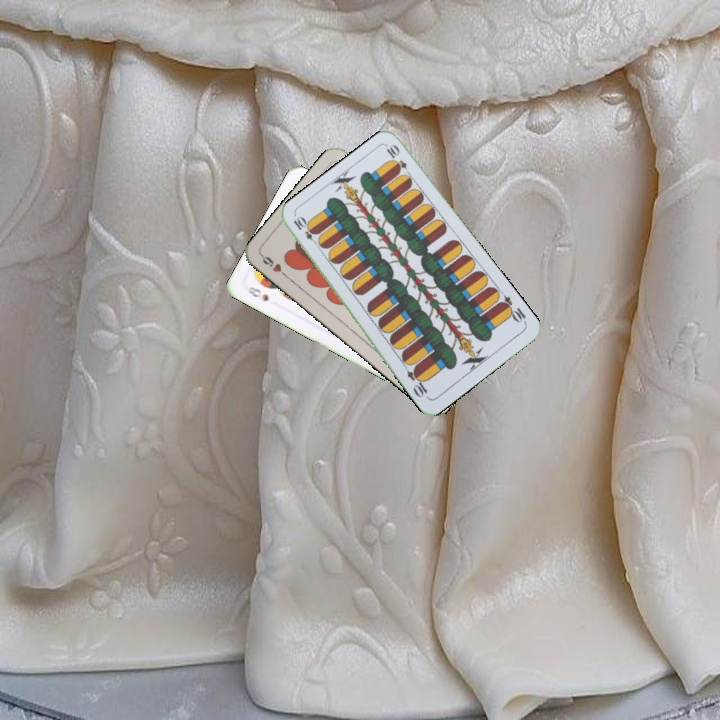E10: (495, 291, 529, 326), (289, 213, 322, 248)
H9: (257, 251, 291, 281)
S8: (241, 283, 271, 304)
